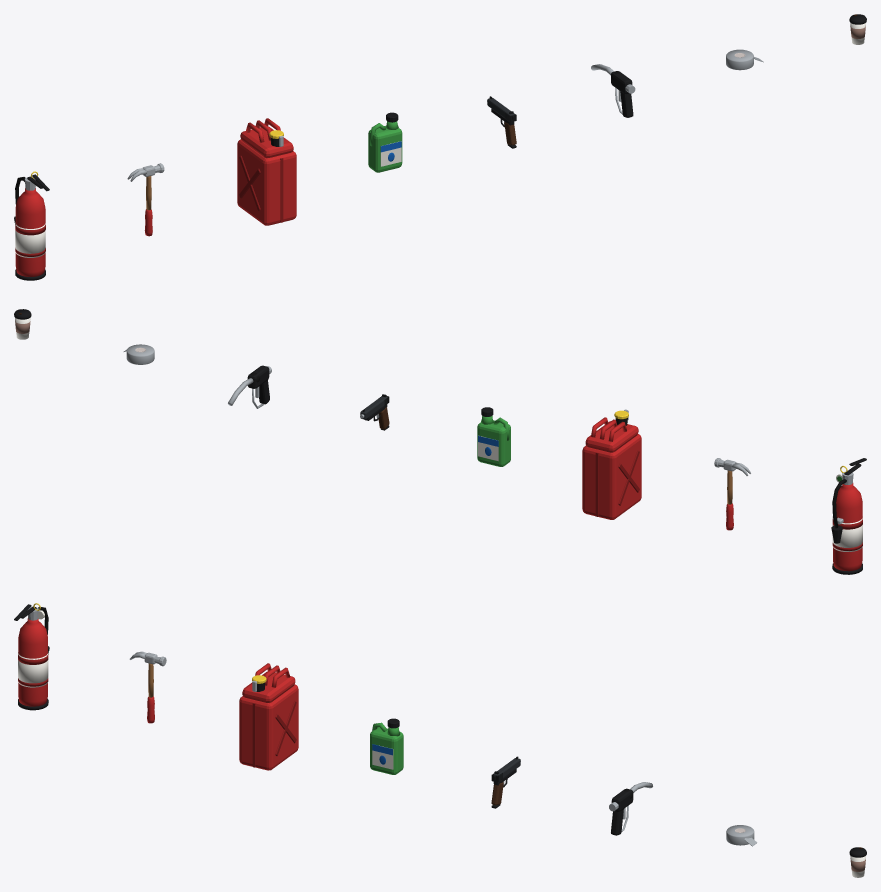
The model's file is items.glb.
3 renders of one model, top to bottom at view 1: azimuth 30°, elevation 25°; view 2: azimuth 150°, elevation 25°; view 3: azimuth 330°, elevation 25°, orthographic.
Parts seen in each view (by area): view 1: jerrycan, extinguisher, coolant, nozzle, hammer, pistol, tape; view 2: jerrycan, extinguisher, coolant, nozzle, hammer, pistol, tape; view 3: jerrycan, extinguisher, coolant, nozzle, hammer, pistol, tape.
Part boxes in pixels (<box>): jerrycan: <box>237,118,296,225</box>; extinguisher: <box>14,171,49,280</box>; coolant: <box>368,112,402,172</box>; nozzle: <box>591,64,635,117</box>; hammer: <box>127,163,164,236</box>; pistol: <box>487,96,516,148</box>; tape: <box>726,49,763,70</box>; jerrycan: <box>582,409,641,519</box>; extinguisher: <box>831,458,866,574</box>; coolant: <box>477,407,510,466</box>; nozzle: <box>228,365,271,408</box>; hammer: <box>714,458,750,530</box>; pistol: <box>360,394,389,430</box>; tape: <box>123,344,154,364</box>; jerrycan: <box>239,663,298,770</box>; extinguisher: <box>14,603,49,710</box>; coolant: <box>370,718,403,774</box>; nozzle: <box>609,782,652,835</box>; hammer: <box>129,651,166,723</box>; pistol: <box>491,756,520,808</box>; tape: <box>726,825,757,846</box>.
Size of the model in its own units: 4.31 by 0.496 by 0.4111.
